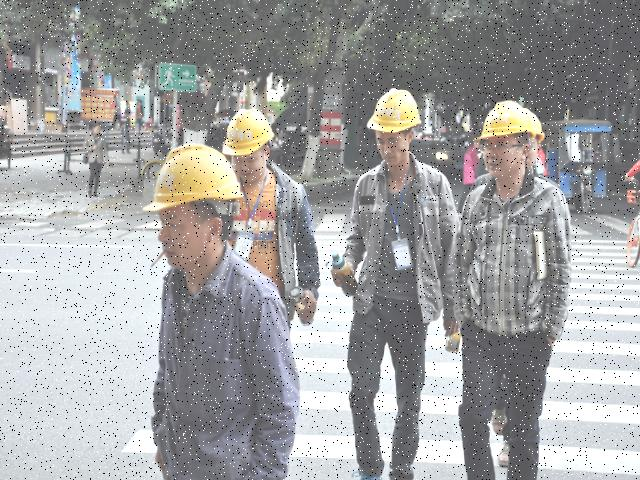Helmet: (138, 137, 246, 216), (218, 104, 276, 162), (362, 84, 424, 136), (473, 96, 534, 144)
